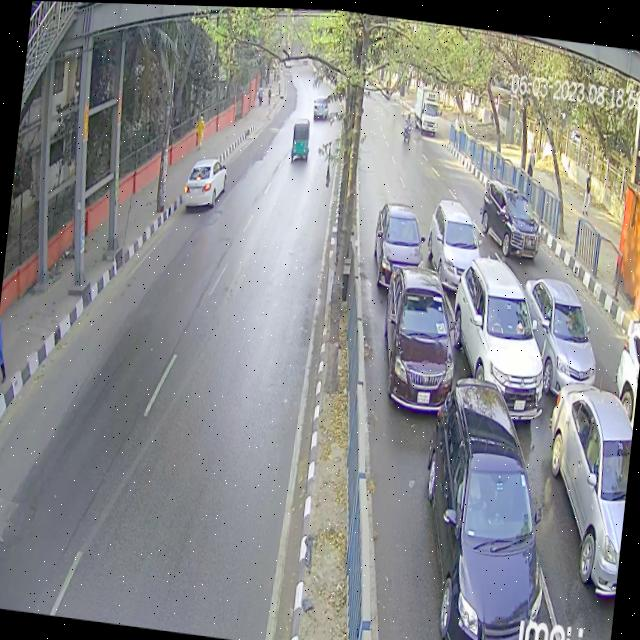cng: (287, 111, 315, 162)
